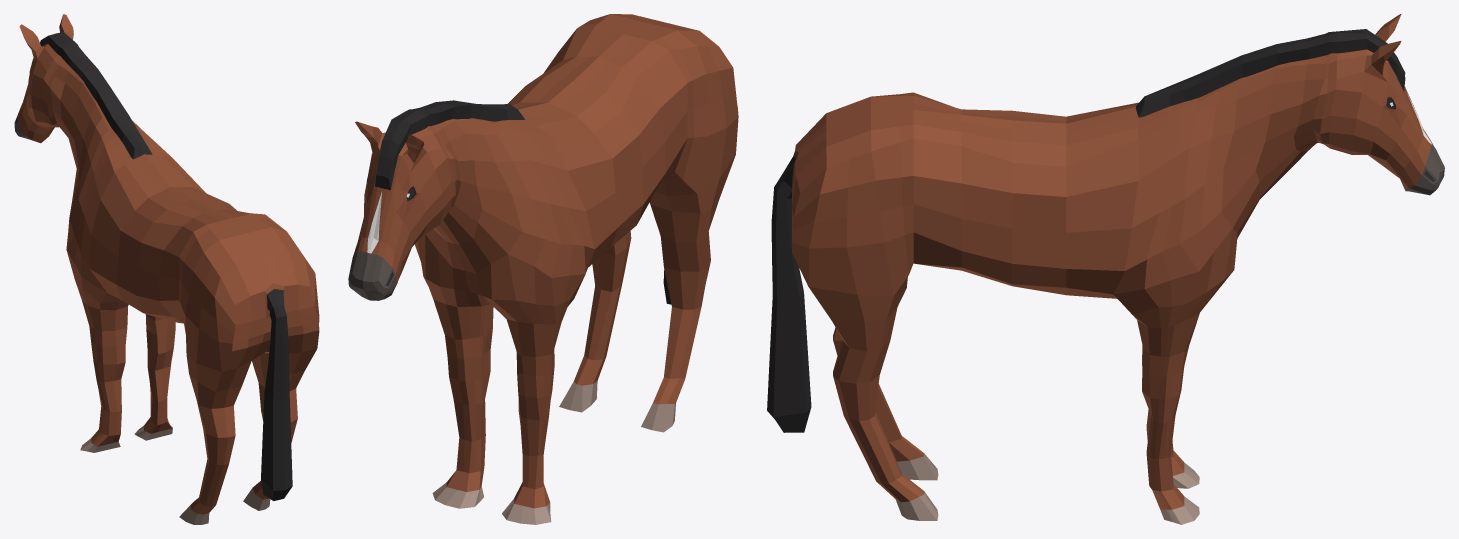
Rendered from horse.glb.
The picture shows the model from 3 angles, left to right: view 1: azimuth 30°, elevation 25°; view 2: azimuth 150°, elevation 25°; view 3: azimuth 270°, elevation 25°; orthographic projection. The views are drawn at different scales.
Parts seen in each view (by area): view 1: Cube_0; view 2: Cube_0; view 3: Cube_0.
Boxes of the visible parts, <box> form: Cube_0: <box>14,14,319,524</box>; Cube_0: <box>348,14,738,524</box>; Cube_0: <box>767,14,1444,524</box>.
Size of the model in its own units: 3.03 by 8.77 by 11.51.
